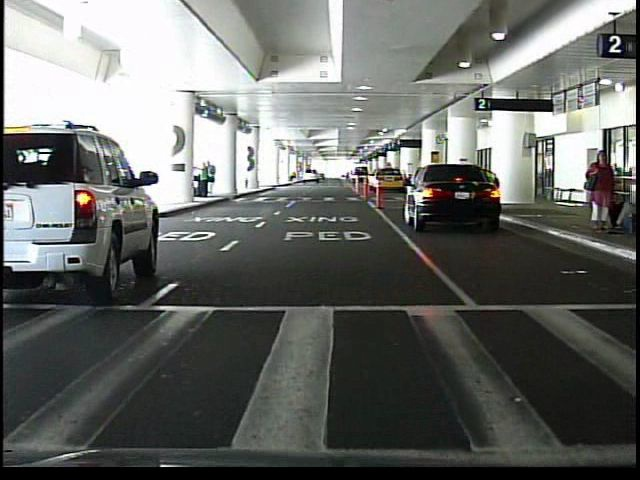person: (583, 151, 617, 234), (589, 154, 602, 207), (196, 161, 209, 199), (207, 160, 217, 197)
